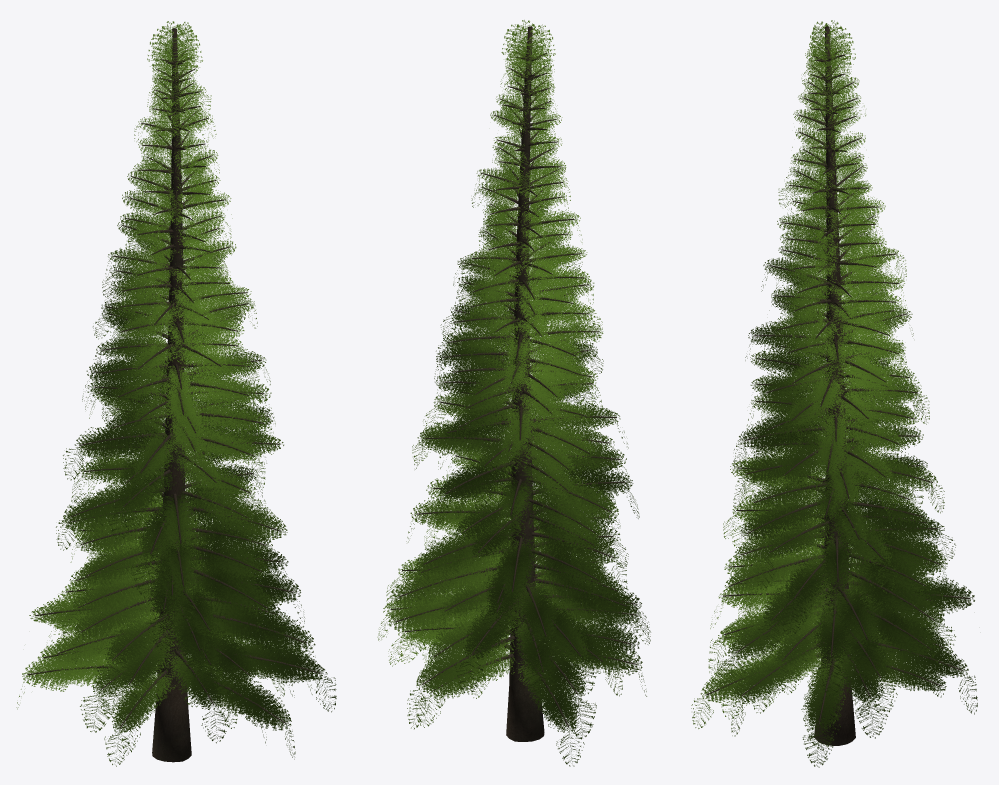
File: larch_sparse_v02.fbx
3 views of the same model, side by side, from view 1: azimuth 30°, elevation 25°; view 2: azimuth 150°, elevation 25°; view 3: azimuth 270°, elevation 25° (orthographic). The views are drawn at different scales.
Visible parts, largest first — view 1: larch_sparse_v02; view 2: larch_sparse_v02; view 3: larch_sparse_v02.
Part boxes in pixels (x1,y1,x2,y2): larch_sparse_v02: (16, 21, 336, 766); larch_sparse_v02: (377, 20, 650, 766); larch_sparse_v02: (691, 20, 977, 767).
Size of the model in its own units: 625 by 650 by 1721.
2 materials, 2 textured.
